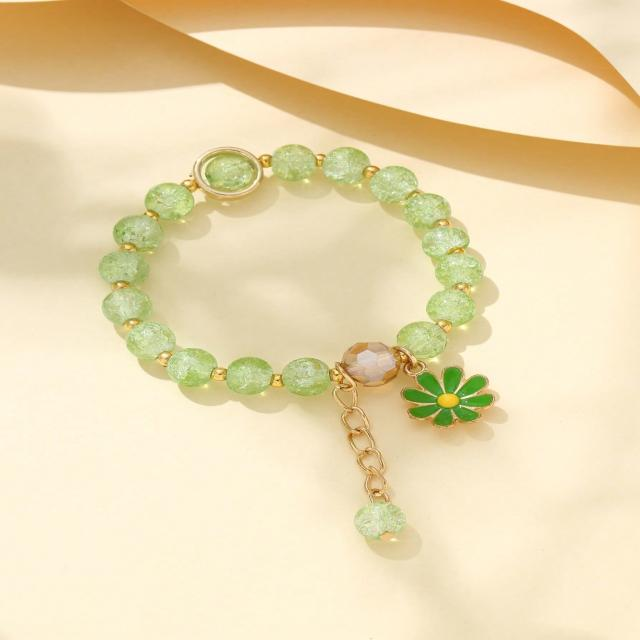bracelet: (67, 97, 581, 609)
